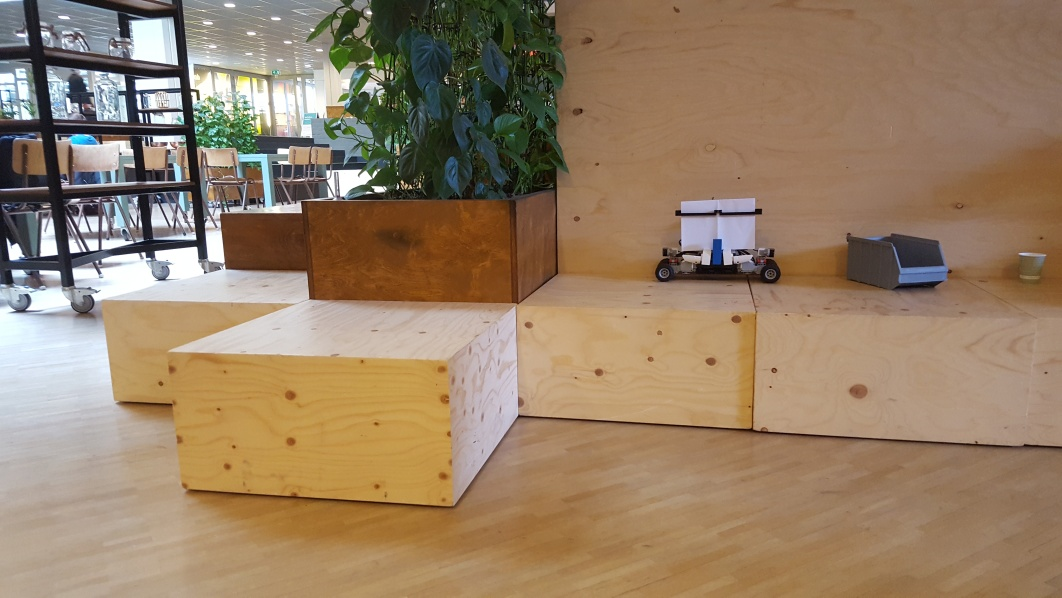car: (656, 197, 782, 288)
cup: (1013, 252, 1048, 285)
tray: (842, 231, 953, 294)
